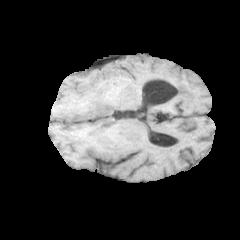glioma: (54, 67, 195, 128)
